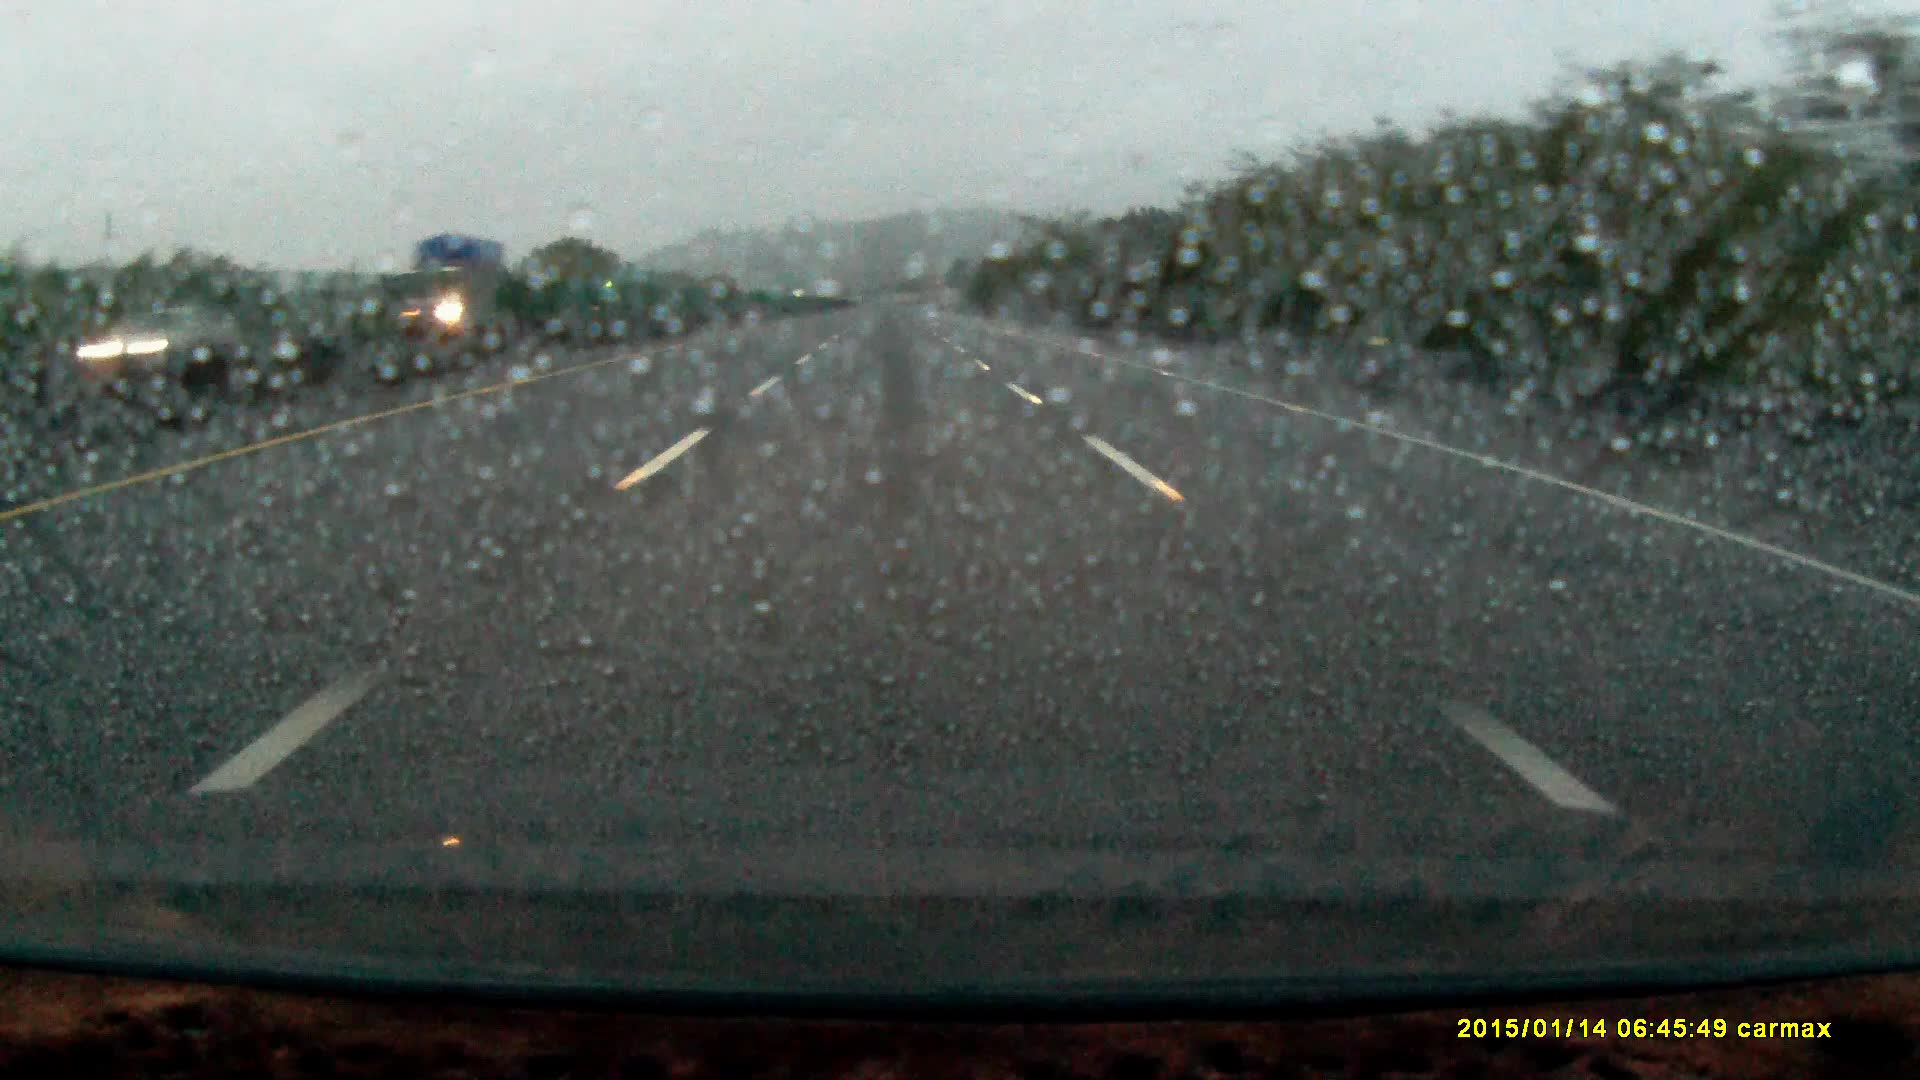vehicle: (397, 237, 512, 336), (88, 310, 237, 363)
